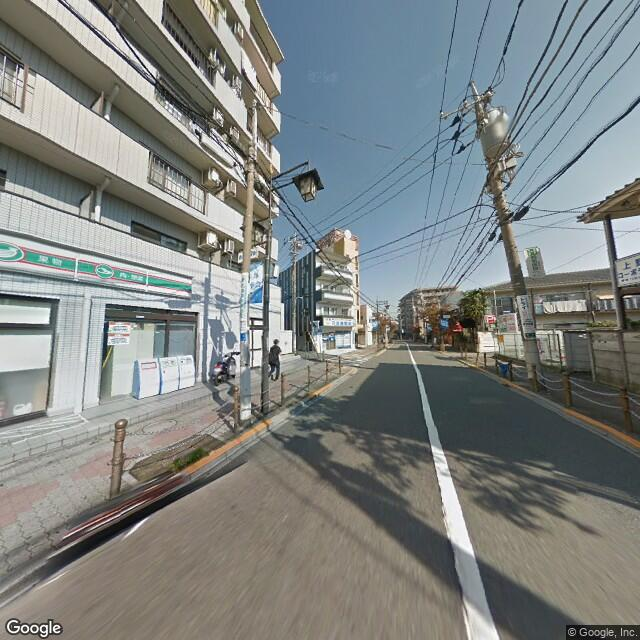lawson: (1, 231, 194, 302)
